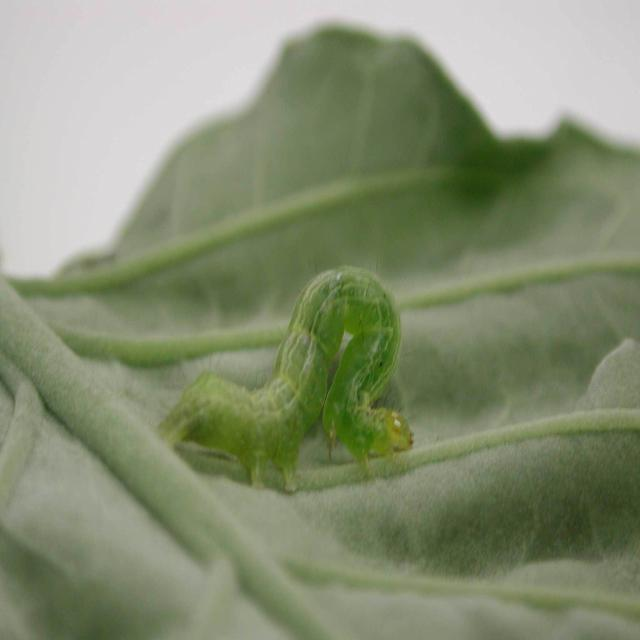looper: (156, 267, 420, 483)
